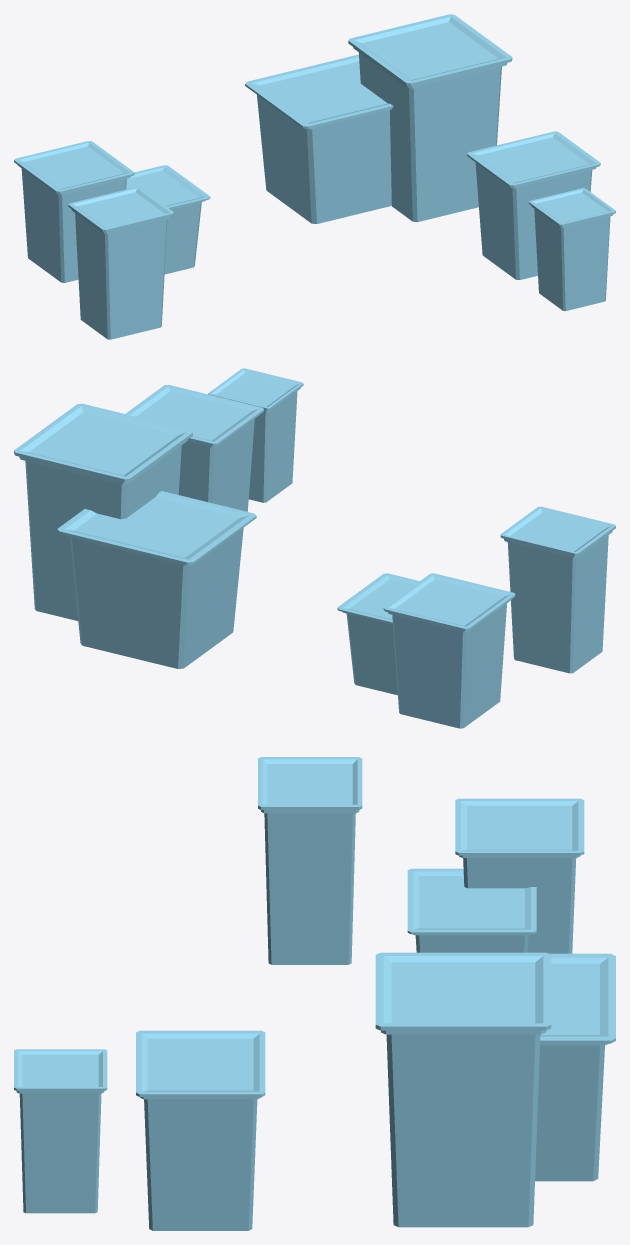
Rendered from mini building.fbx.
3 renders of one model, top to bottom at view 1: azimuth 30°, elevation 25°; view 2: azimuth 150°, elevation 25°; view 3: azimuth 270°, elevation 25°, orthographic. The views are drawn at different scales.
Visible parts, largest first — view 1: Cube.221, Cube.222, Cube.114, Cube.170, Cube.223, Cube.169, Cube.224; view 2: Cube.222, Cube.221, Cube.223, Cube.114, Cube.170, Cube.169, Cube.224; view 3: Cube.221, Cube.170, Cube.114, Cube.222, Cube.223, Cube.169, Cube.224.
Boxes of the visible parts, x1,y1,x2,y2 form: Cube.221: [348, 14, 512, 222]; Cube.222: [245, 54, 393, 223]; Cube.114: [68, 187, 173, 339]; Cube.170: [467, 131, 600, 279]; Cube.223: [14, 141, 134, 282]; Cube.169: [529, 188, 615, 311]; Cube.224: [126, 165, 210, 274]; Cube.222: [57, 491, 256, 668]; Cube.221: [14, 403, 192, 620]; Cube.223: [383, 573, 515, 728]; Cube.114: [500, 506, 615, 673]; Cube.170: [125, 385, 263, 511]; Cube.169: [208, 368, 303, 502]; Cube.224: [337, 573, 419, 695]; Cube.221: [375, 952, 551, 1227]; Cube.170: [136, 1030, 265, 1230]; Cube.114: [258, 757, 362, 964]; Cube.222: [535, 953, 615, 1181]; Cube.223: [455, 798, 584, 953]; Cube.169: [14, 1049, 107, 1213]; Cube.224: [407, 868, 536, 952].
Size of the model in its own units: 20357 by 6260 by 16276.
